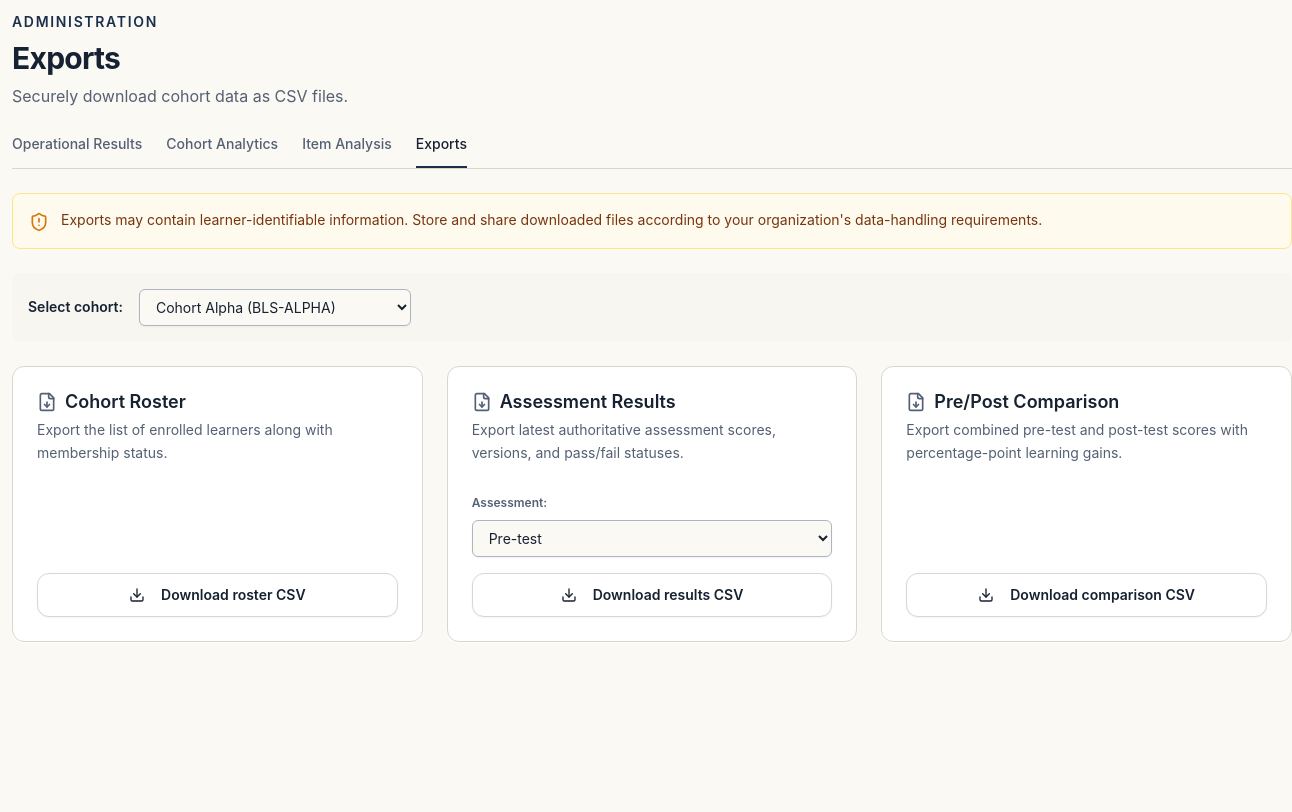
Test: AdminExportsPage › displays accessible error message when export mutation fails
Click the button "Download roster CSV".
click(217, 595)  # box [37, 573, 398, 617]
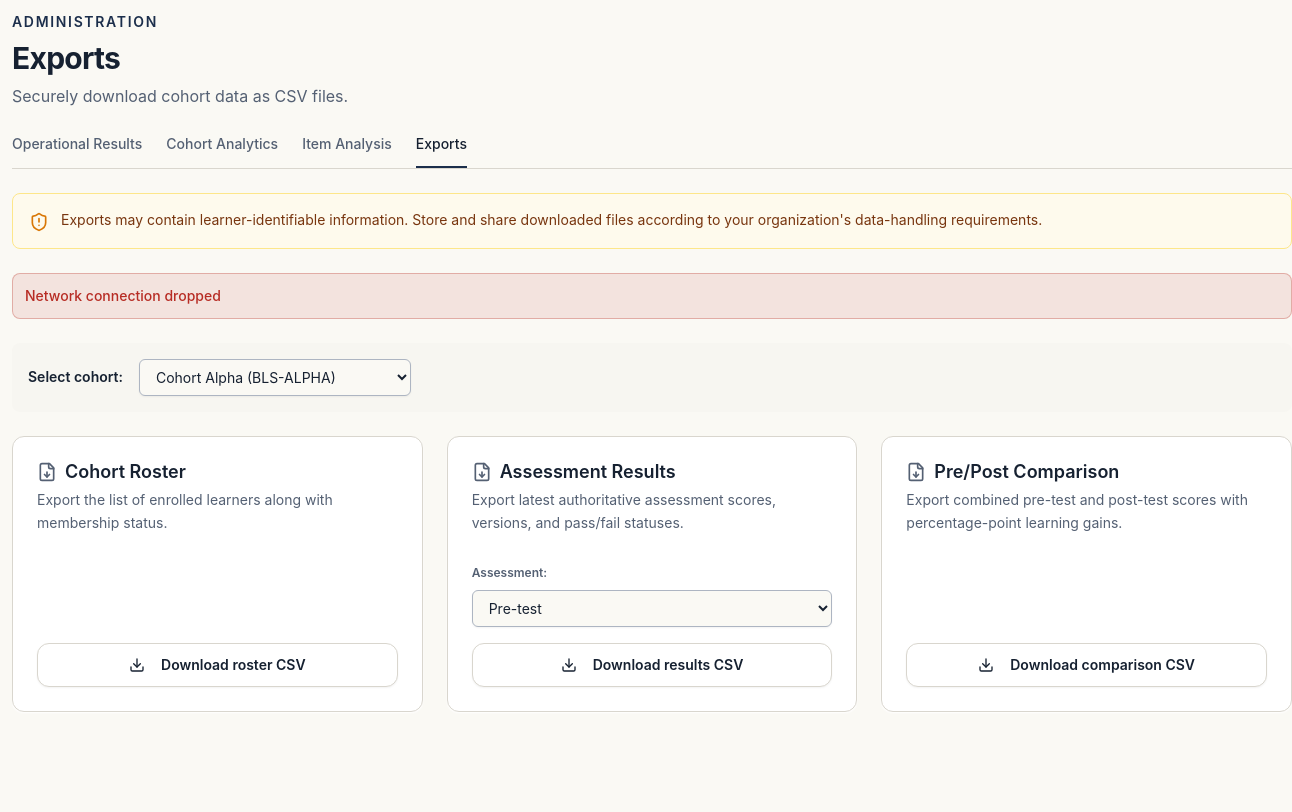
Result: the message reads "Network connection dropped" at [25, 287, 221, 304]
